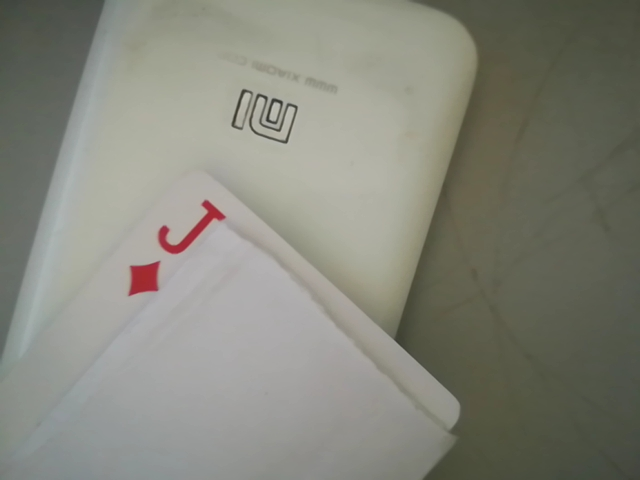fk j: (108, 192, 236, 304)
